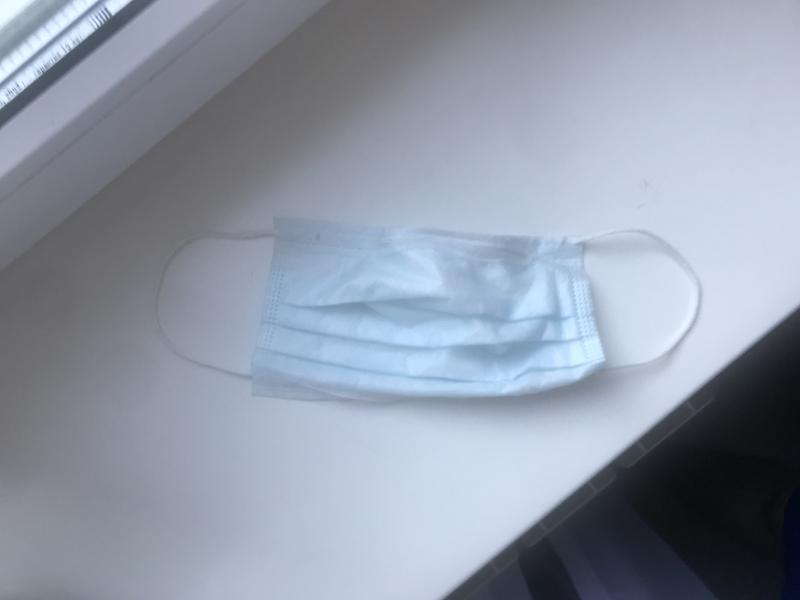medical_mask: (150, 222, 701, 398)
